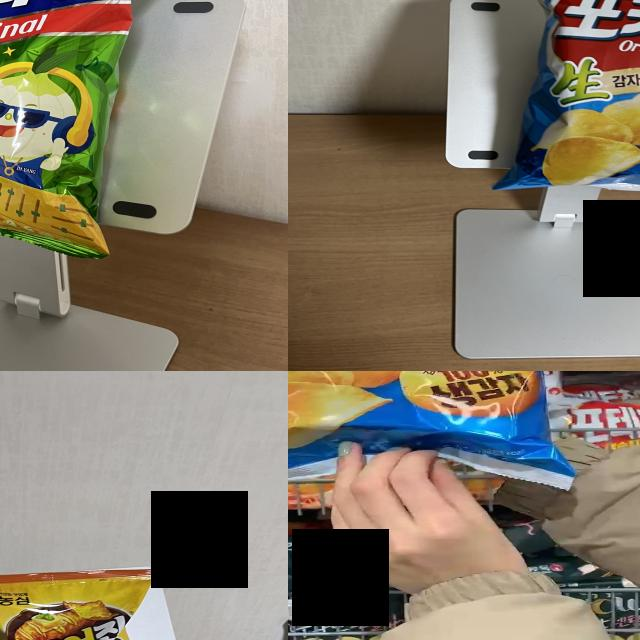onionRing: (0, 0, 120, 242)
ozingZip: (0, 577, 145, 640)
pokaChip: (288, 371, 539, 475), (530, 0, 640, 202)
